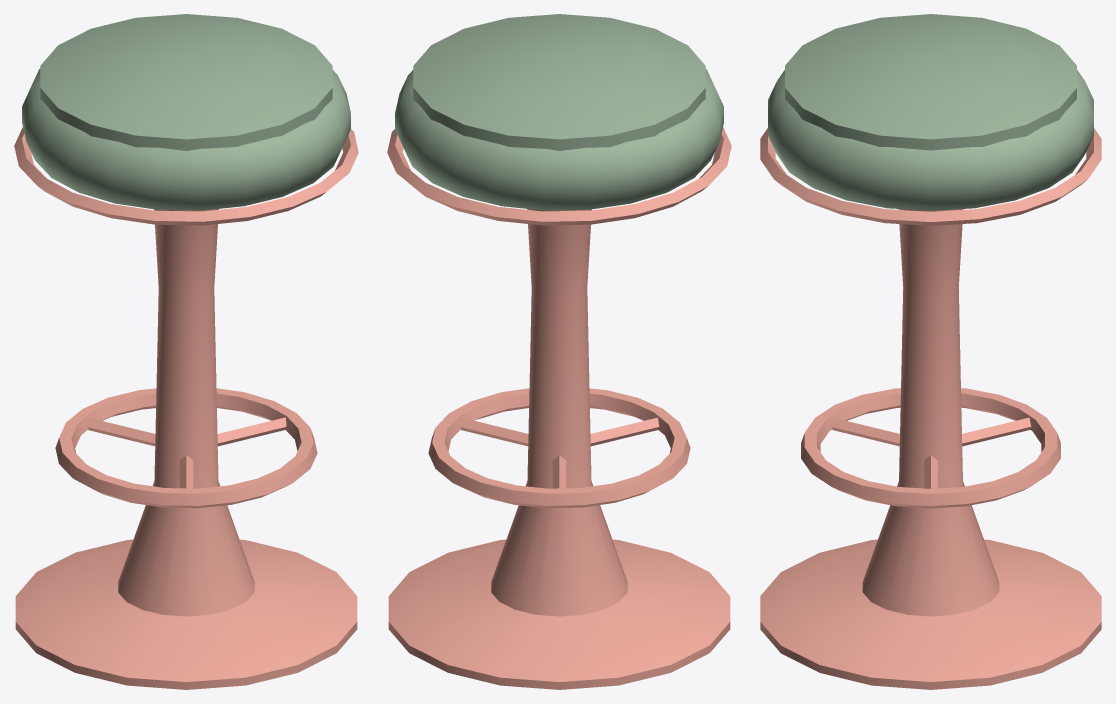
File: stool_bar_rose.glb
3 views of the same model, side by side, from view 1: azimuth 30°, elevation 25°; view 2: azimuth 150°, elevation 25°; view 3: azimuth 270°, elevation 25° (orthographic).
Parts seen in each view (by area): view 1: stool_bar_rose; view 2: stool_bar_rose; view 3: stool_bar_rose.
Boxes of the visible parts, box(x1,y1,x2,y2) form: stool_bar_rose: box(14, 14, 358, 689); stool_bar_rose: box(387, 14, 731, 689); stool_bar_rose: box(760, 14, 1101, 689).
Bounding box in the file's own units: 0.4 × 0.72 × 0.3939.
